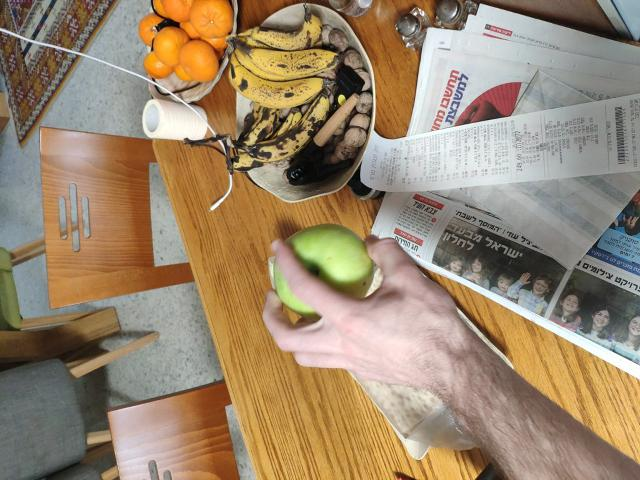apple: (278, 230, 376, 315)
